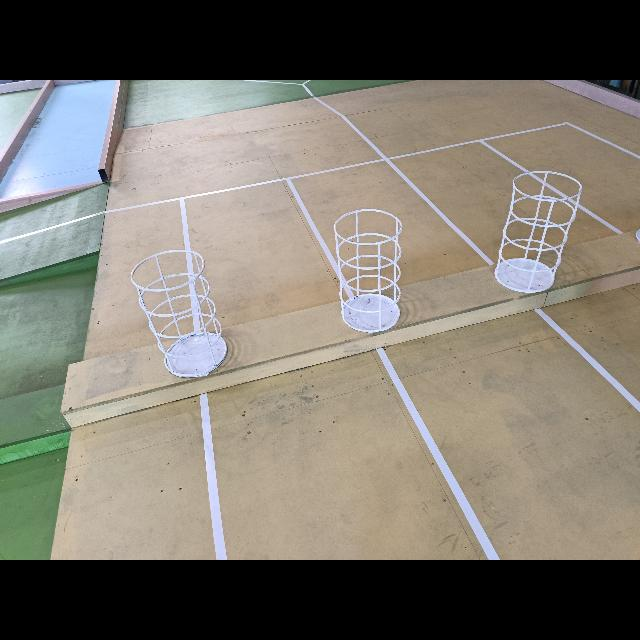S: (130, 249, 227, 378), (495, 169, 582, 294), (334, 209, 403, 332)
